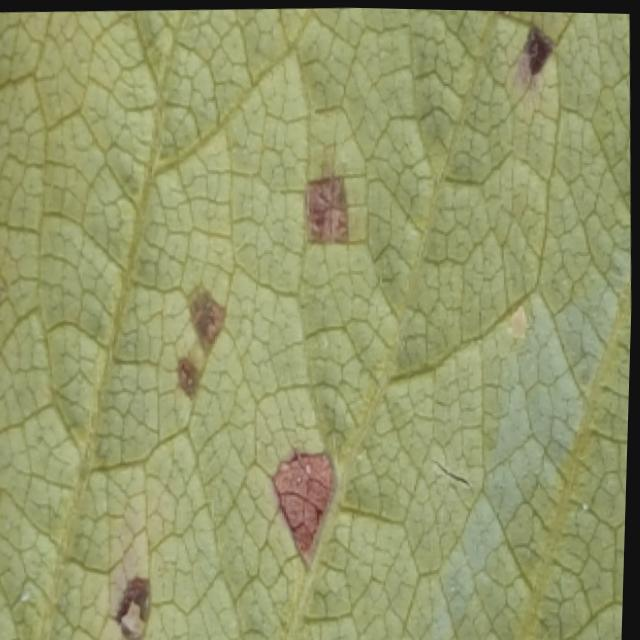Angular Leafspot: (0, 5, 629, 640)
